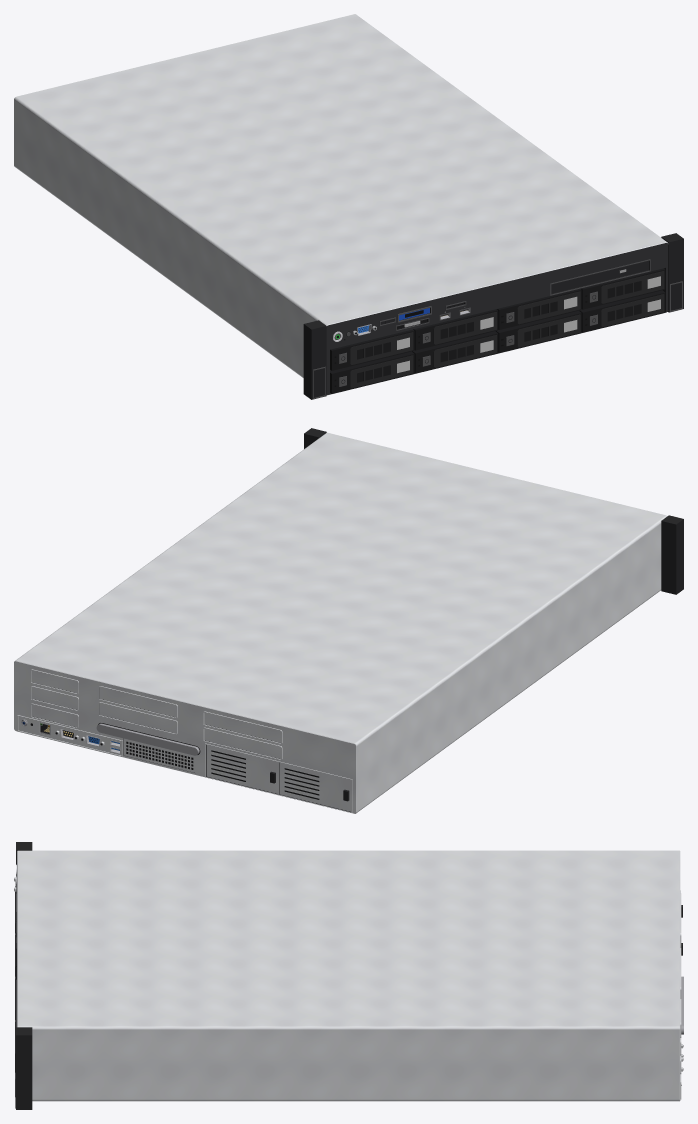
The picture shows the model from 3 angles, top to bottom: view 1: azimuth 30°, elevation 25°; view 2: azimuth 150°, elevation 25°; view 3: azimuth 270°, elevation 25°; orthographic projection. The views are drawn at different scales.
Parts seen in each view (by area): view 1: Shell; view 2: Shell, Rear, empty:PSU 1, empty:PSU 2, empty:Network Daughter Card Slot 1, empty:PCIe Slot 4, empty:PCIe Slot 6, empty:PCIe Slot 7, empty:PCIe Slot 5; view 3: Shell, Rear.
Part boxes in pixels (left/top/right/bottom): Shell: left=14, top=14, right=683, bottom=399; Shell: left=14, top=428, right=683, bottom=813; Rear: left=14, top=661, right=355, bottom=813; empty:PSU 1: left=206, top=745, right=278, bottom=793; empty:PSU 2: left=280, top=763, right=351, bottom=811; empty:Network Daughter Card Slot 1: left=124, top=738, right=195, bottom=772; empty:PCIe Slot 4: left=100, top=703, right=176, bottom=733; empty:PCIe Slot 6: left=204, top=729, right=280, bottom=758; empty:PCIe Slot 7: left=204, top=713, right=280, bottom=742; empty:PCIe Slot 5: left=100, top=687, right=176, bottom=717; Shell: left=14, top=842, right=680, bottom=1109; Rear: left=680, top=890, right=683, bottom=1099.
Size of the model in its own units: 0.4824 by 0.0873 by 0.7073.
Materials: 25 (2 with a texture image).
